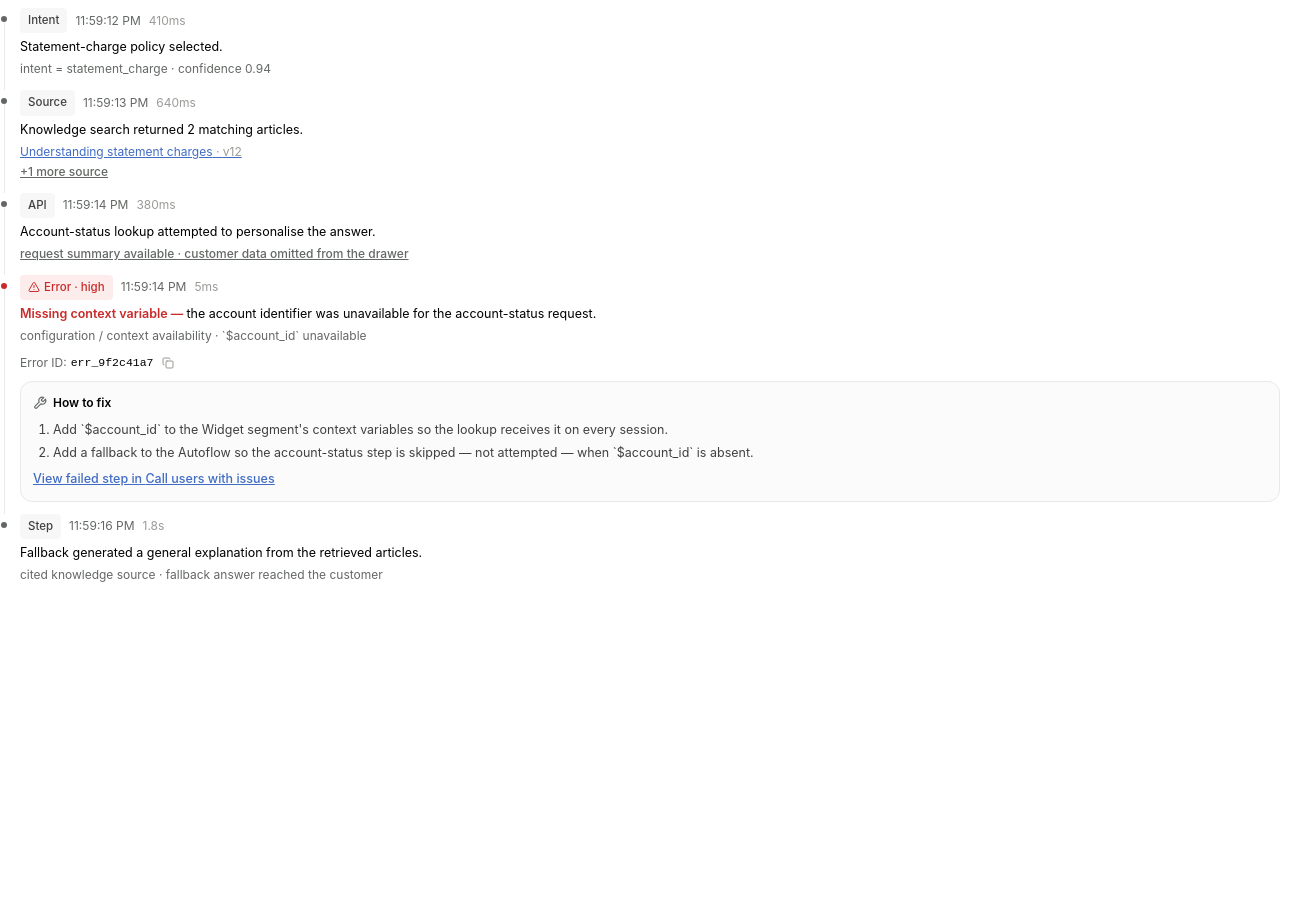
Test: EvidenceTimeline › shows request and response payloads as expandable code blocks
Click the button "request summary available": (214, 253) top-left (20, 245), bottom-right (1280, 263)
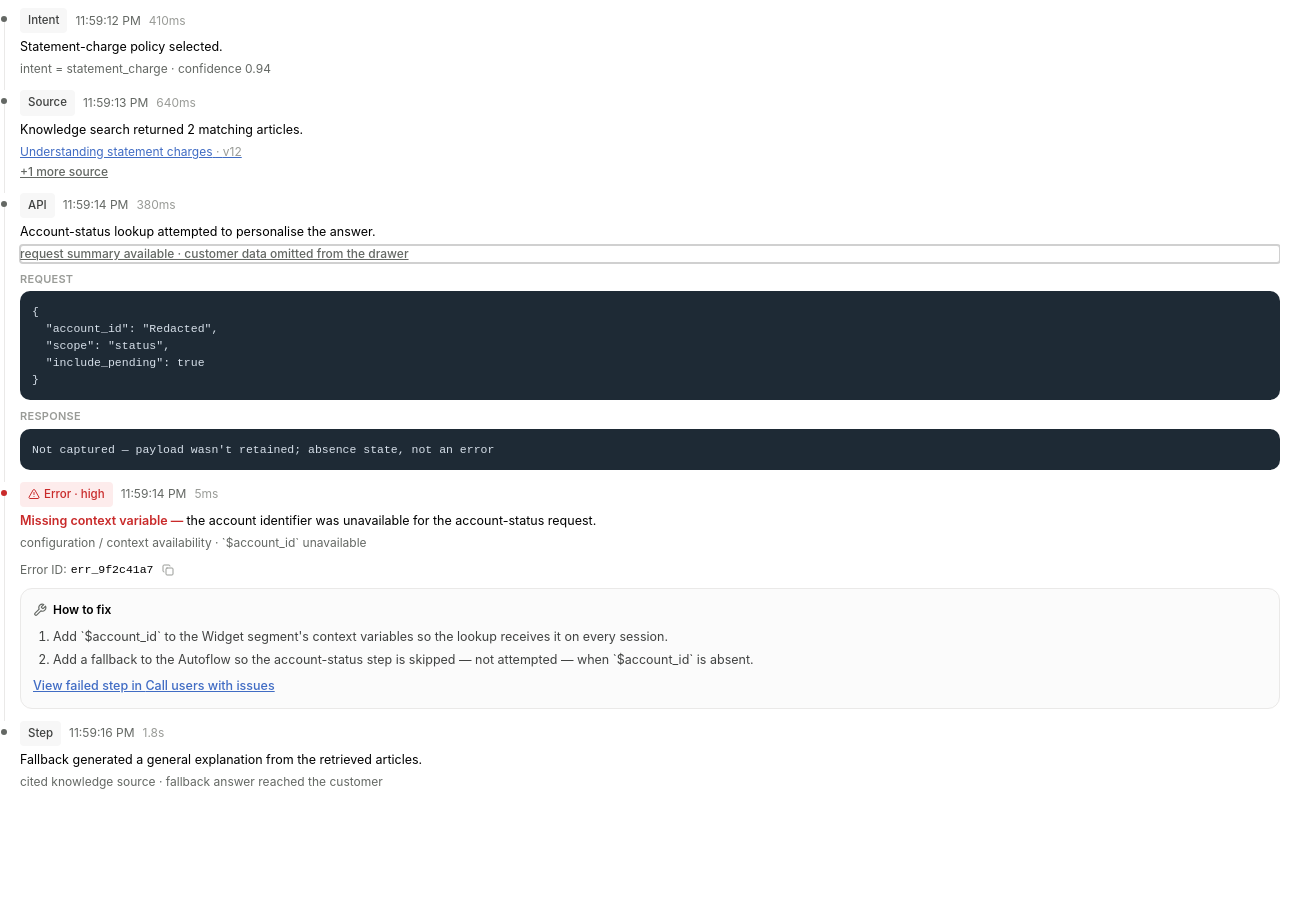
Expected: the text "Request" is shown, top-left (20, 272), bottom-right (73, 286)
Expected: the text "Response" is shown, top-left (20, 409), bottom-right (81, 423)
Expected: the text "Redacted" is shown, top-left (32, 305), bottom-right (218, 386)
